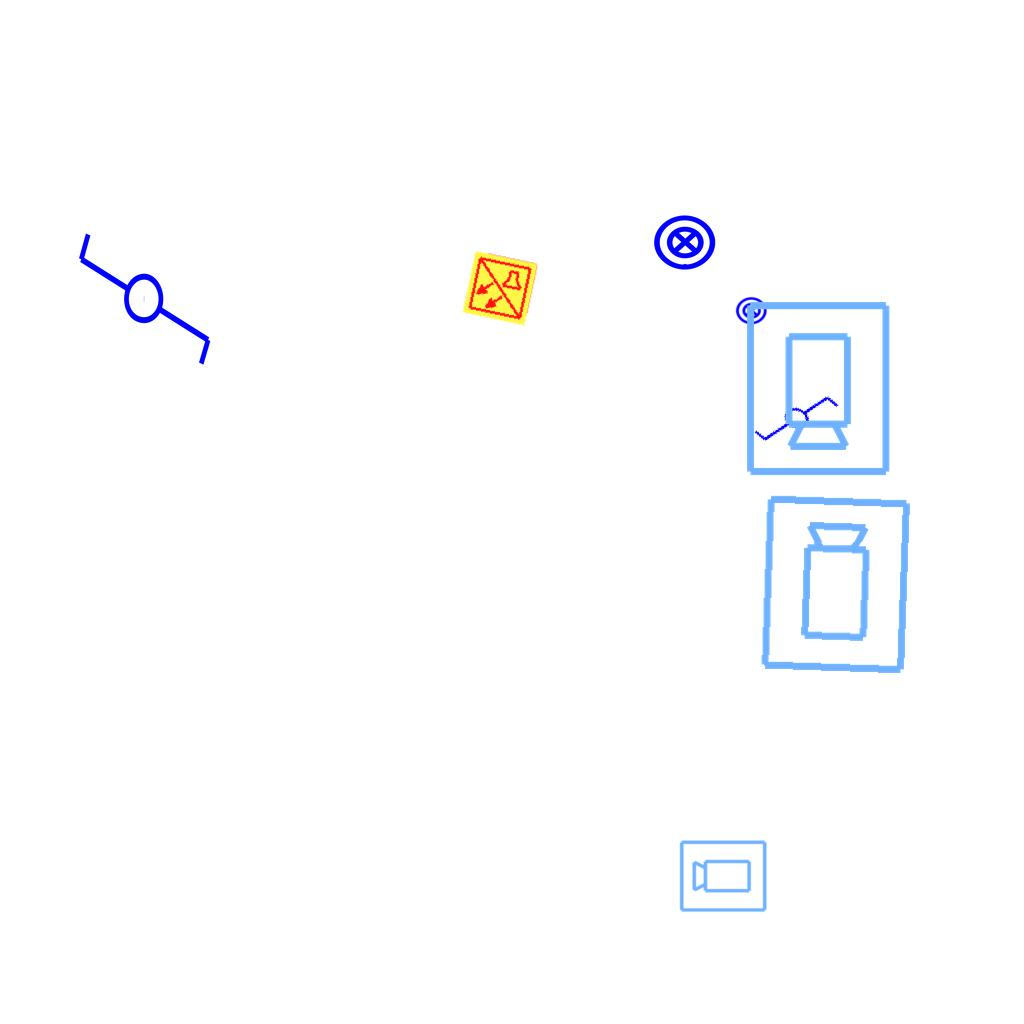KFO_Kamera_mit_Festobjektiv: (756, 491, 918, 679), (740, 297, 894, 479), (678, 837, 769, 914)
OKW_Multisensormelder_(Kombination_optischer_Rauch-Kahlenmonoxid_Waerme-Melder): (460, 248, 540, 328)
Taster_beleuchtet: (652, 209, 718, 275), (735, 294, 768, 327)
Wechselschalter: (74, 212, 218, 369), (749, 372, 851, 470)
